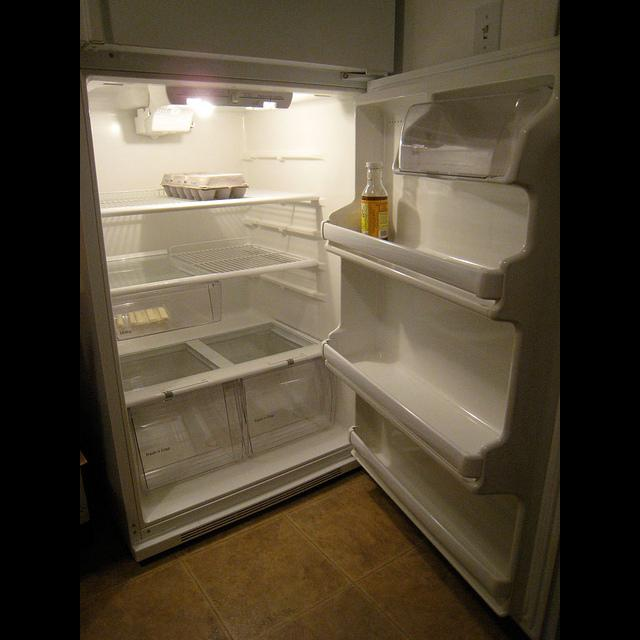Refrigerator: (81, 39, 560, 633)
